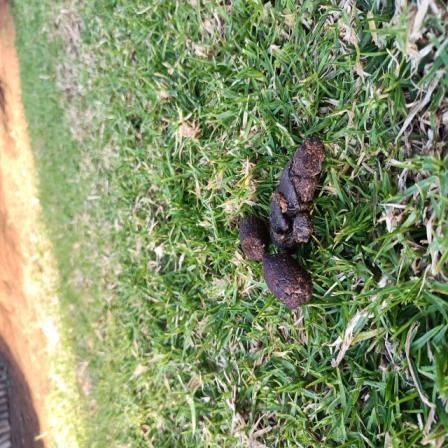dog-poop: (219, 134, 345, 305)
